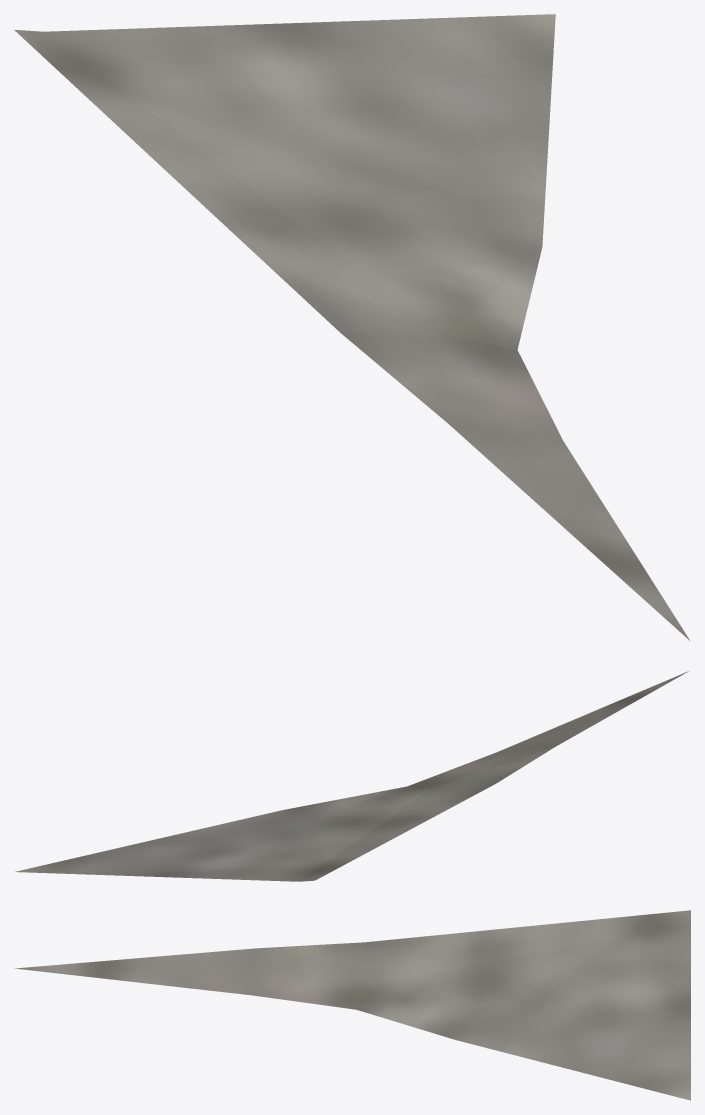
3 views of the same model, one above another, from view 1: azimuth 30°, elevation 25°; view 2: azimuth 150°, elevation 25°; view 3: azimuth 270°, elevation 25° (orthographic). The views are drawn at different scales.
Size of the model in its own units: 0.1499 by 0.0308 by 0.3244.
1 material, 1 textured.
